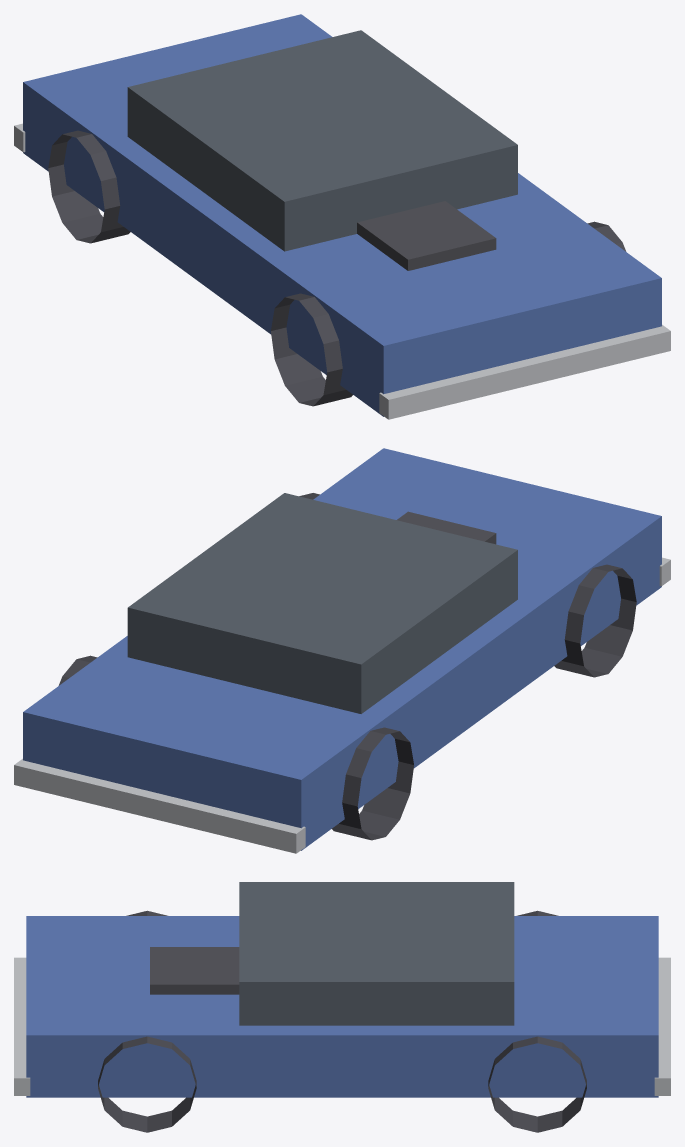
The model's file is vehicle_muscle.glb.
The picture shows the model from 3 angles, top to bottom: view 1: azimuth 30°, elevation 25°; view 2: azimuth 150°, elevation 25°; view 3: azimuth 270°, elevation 25°; orthographic projection. The views are drawn at different scales.
Parts seen in each view (by area): view 1: SabreTurboMuscle; view 2: SabreTurboMuscle; view 3: SabreTurboMuscle.
Boxes of the visible parts, x1,y1,x2,y2 form: SabreTurboMuscle: (14,14,670,419); SabreTurboMuscle: (14,448,670,853); SabreTurboMuscle: (14,882,670,1132).
Size of the model in its own units: 2.28 by 1.08 by 4.78.
